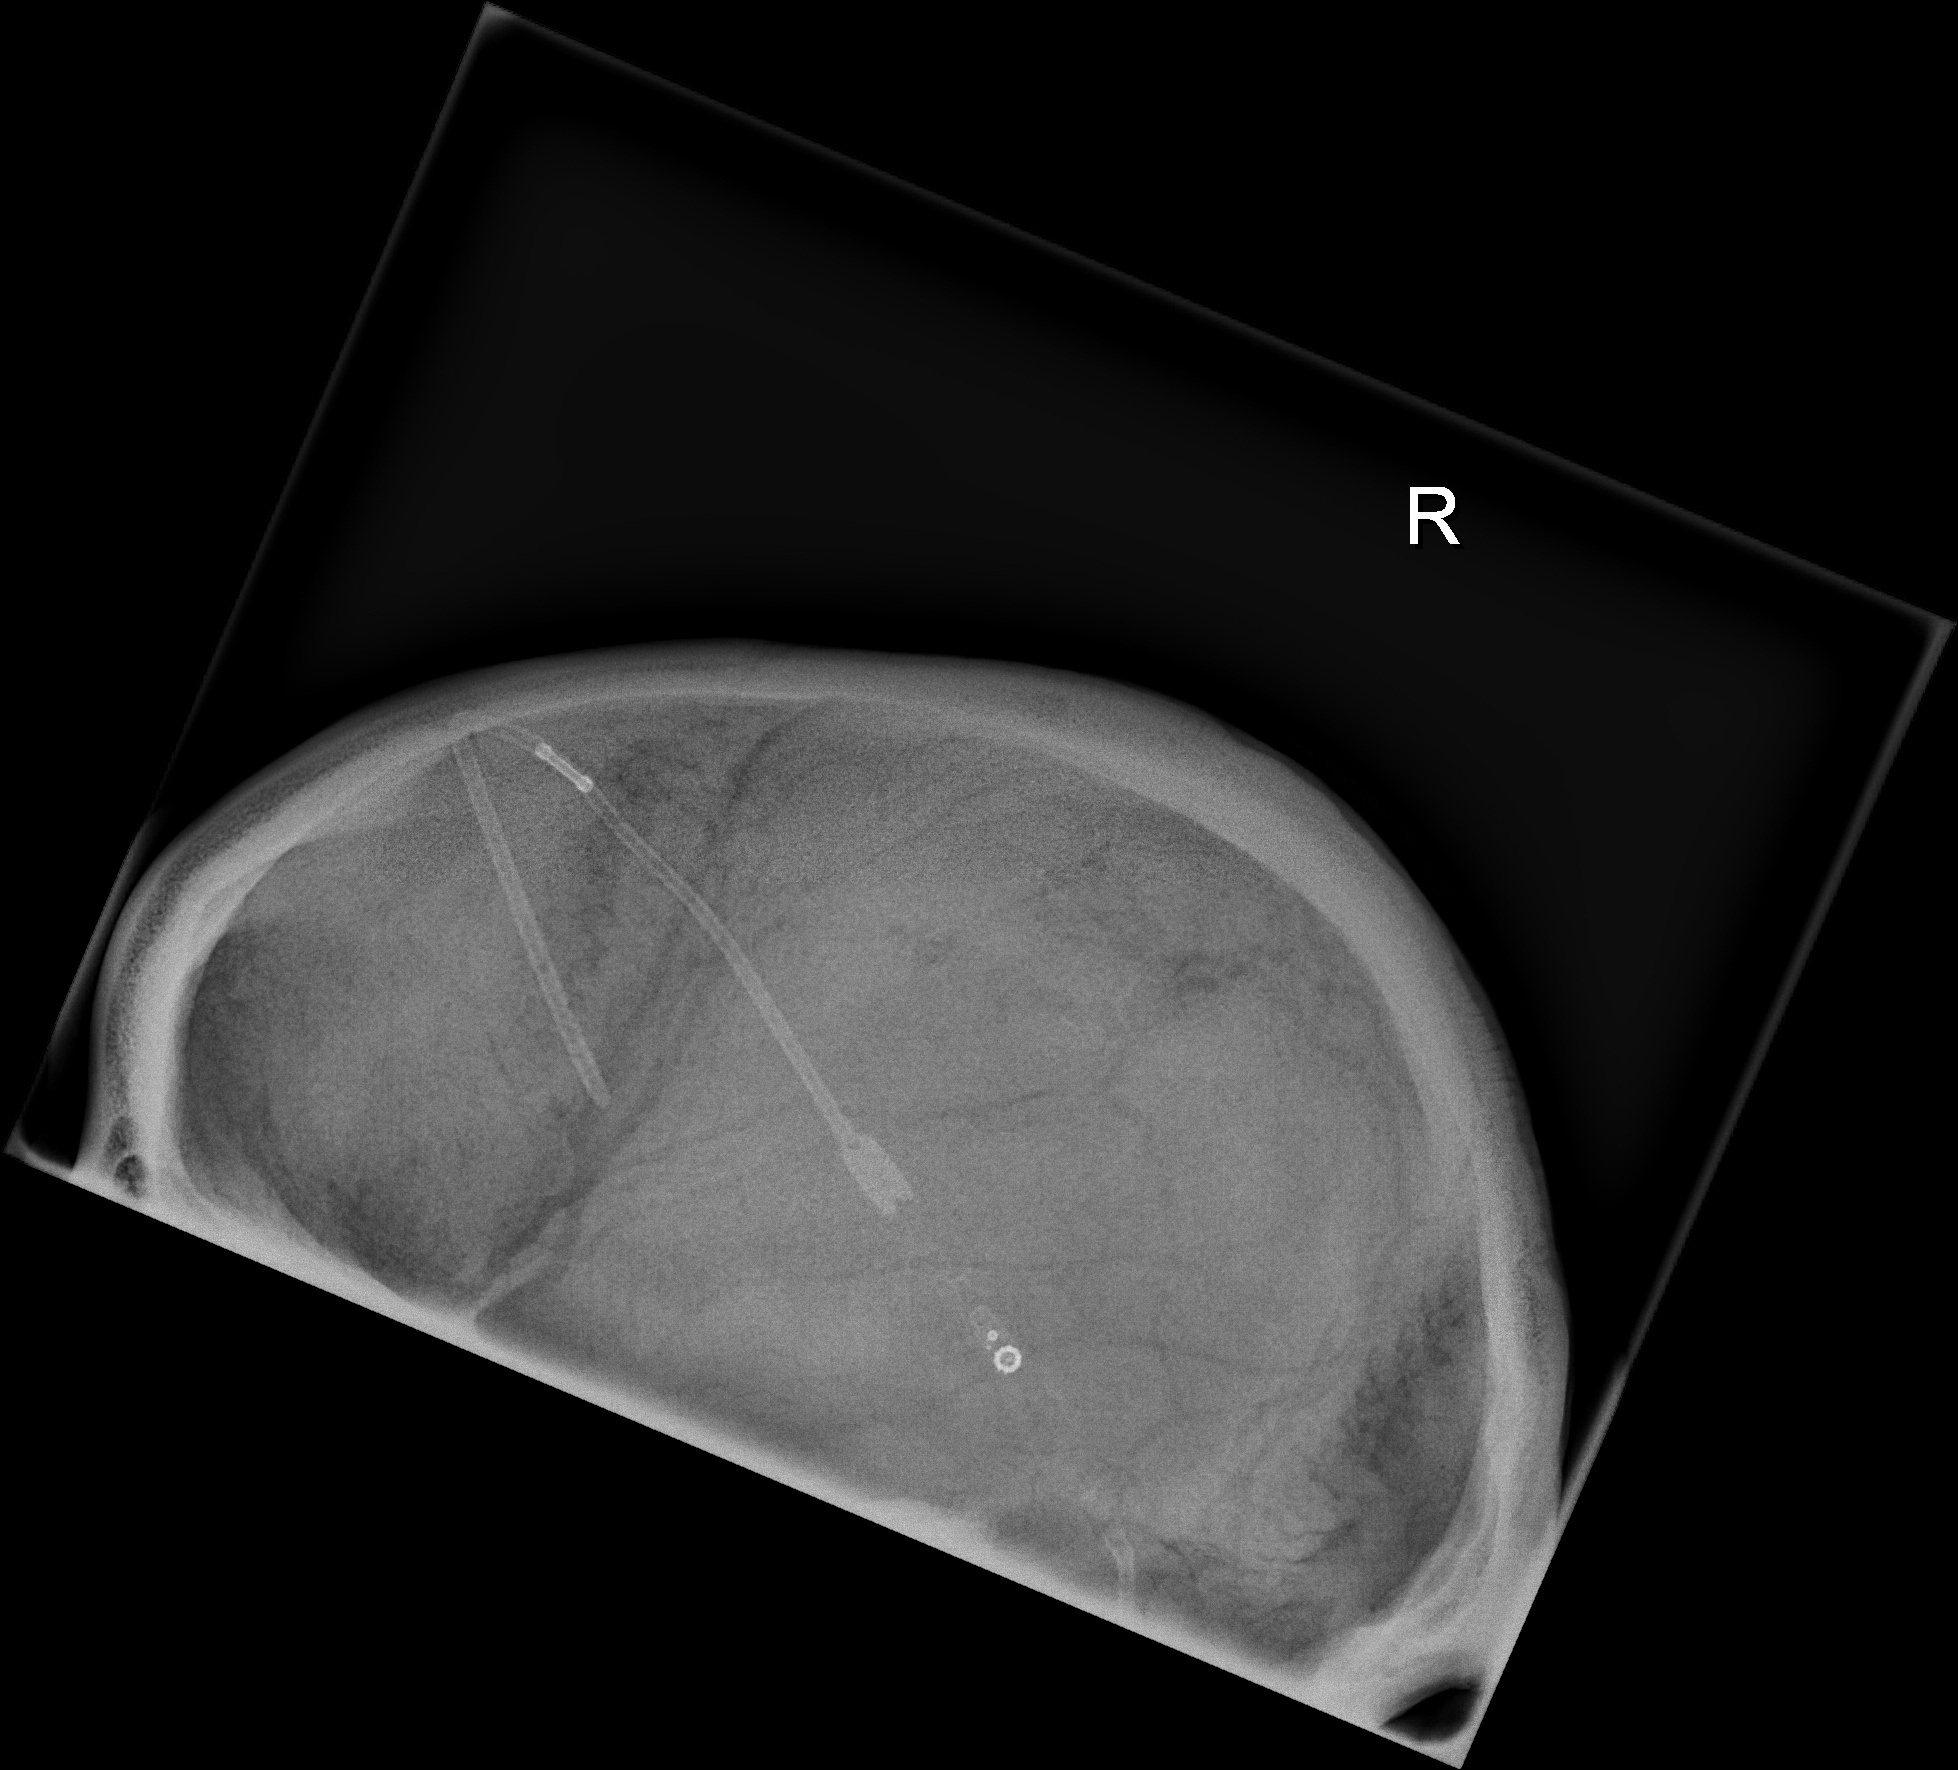Codman Hakim: (959, 1303, 1042, 1386)
